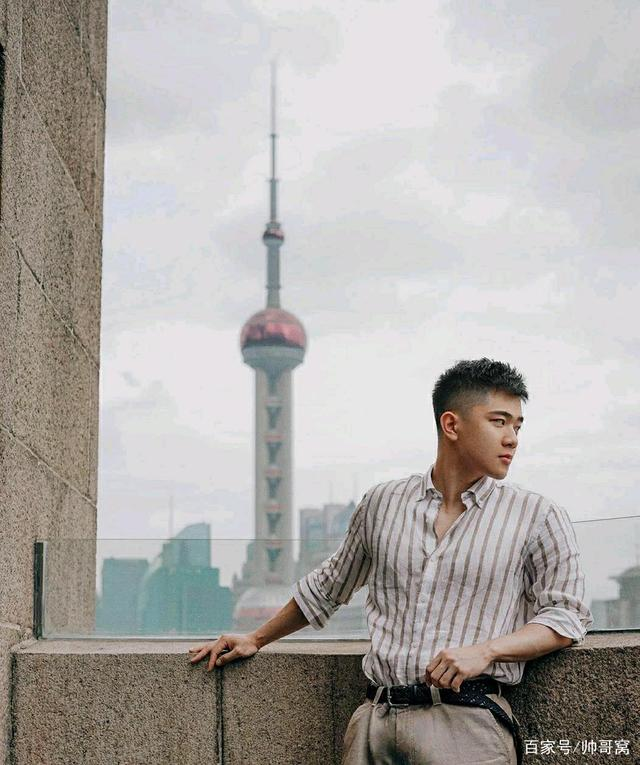person: (295, 297, 553, 765)
